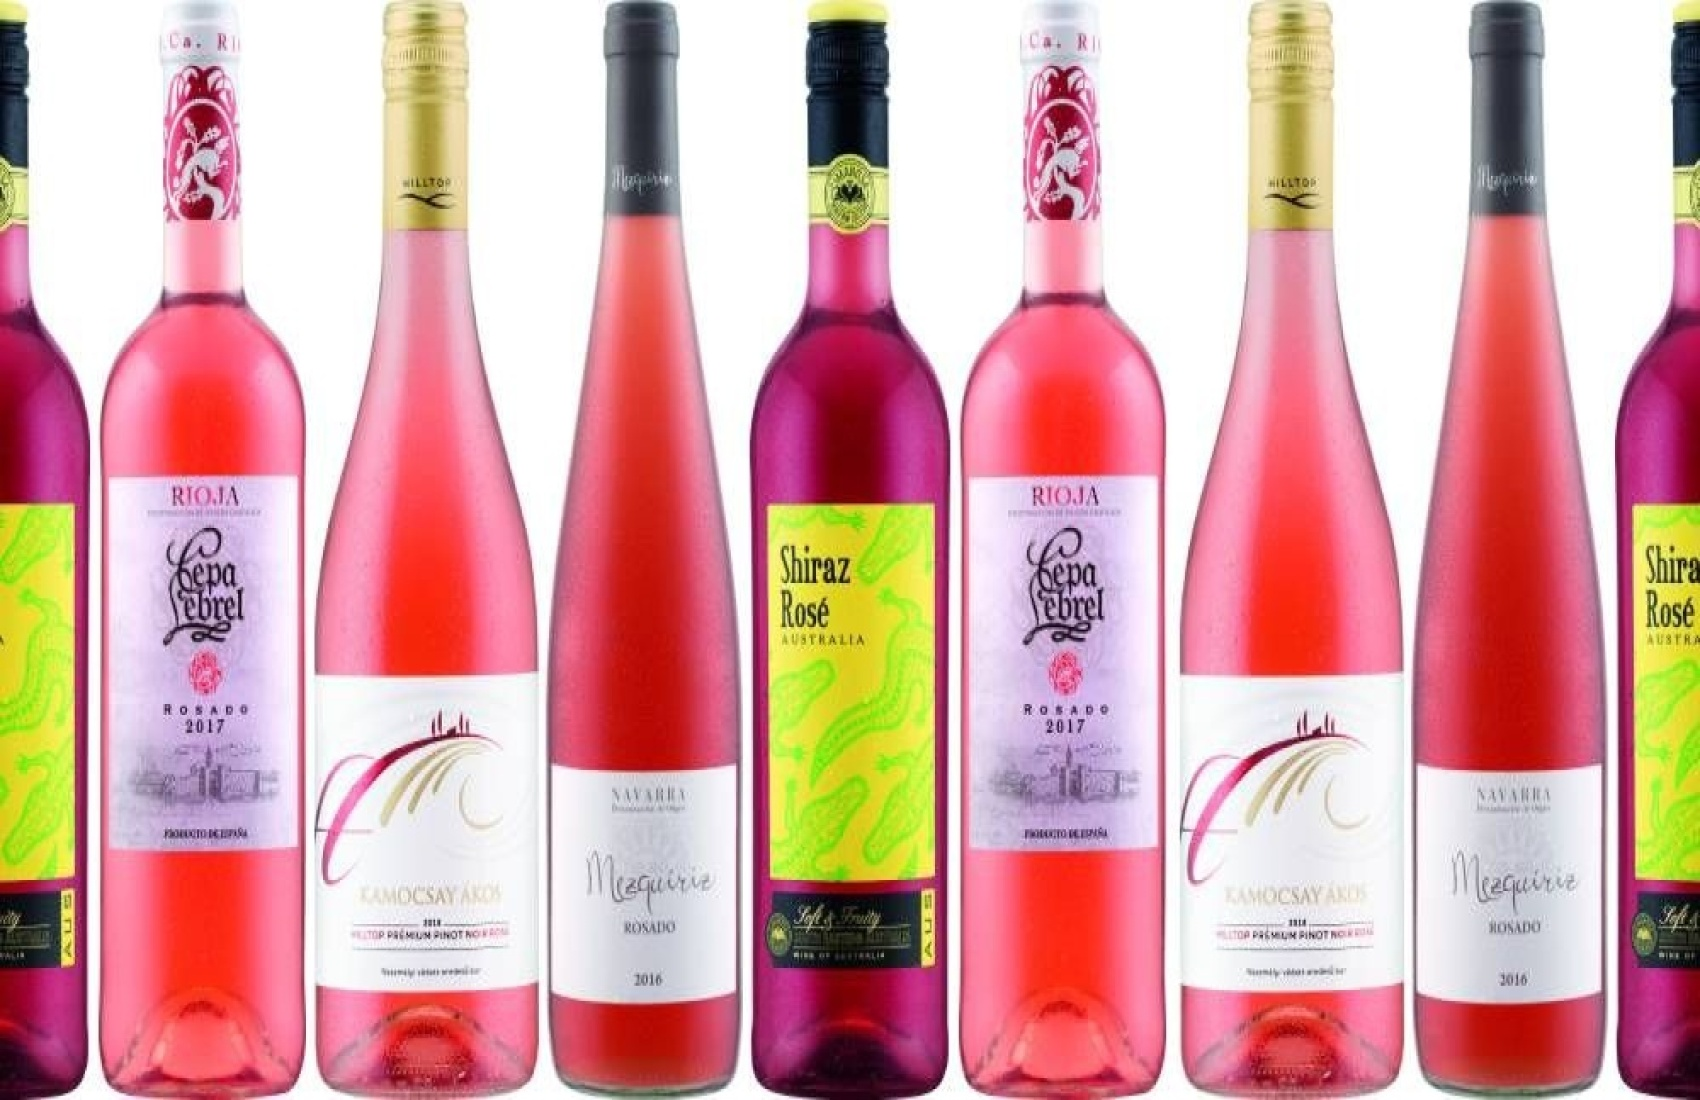wine: (1181, 28, 1408, 1094), (309, 33, 534, 1100), (543, 32, 737, 1100), (107, 24, 301, 1091), (1411, 24, 1605, 1091), (755, 36, 943, 1098), (962, 30, 1150, 1091)
